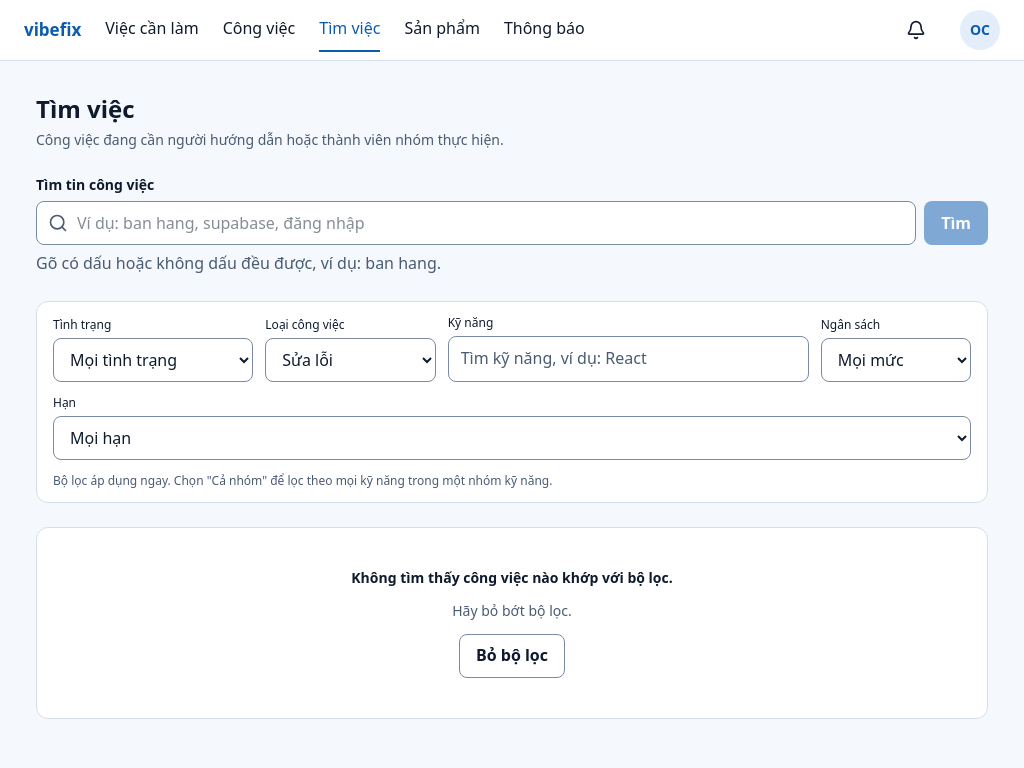
Test: MEN-2, browsing Job Posts (FR-12) › says there is nothing yet, and offers to clear filters that match nothing
Check: the text "Không tìm thấy công việc nào khớp với bộ lọc." is shown, box [351,568,673,588]
Click the button "Bỏ bộ lọc" at (512, 656), box [459,634,565,678]
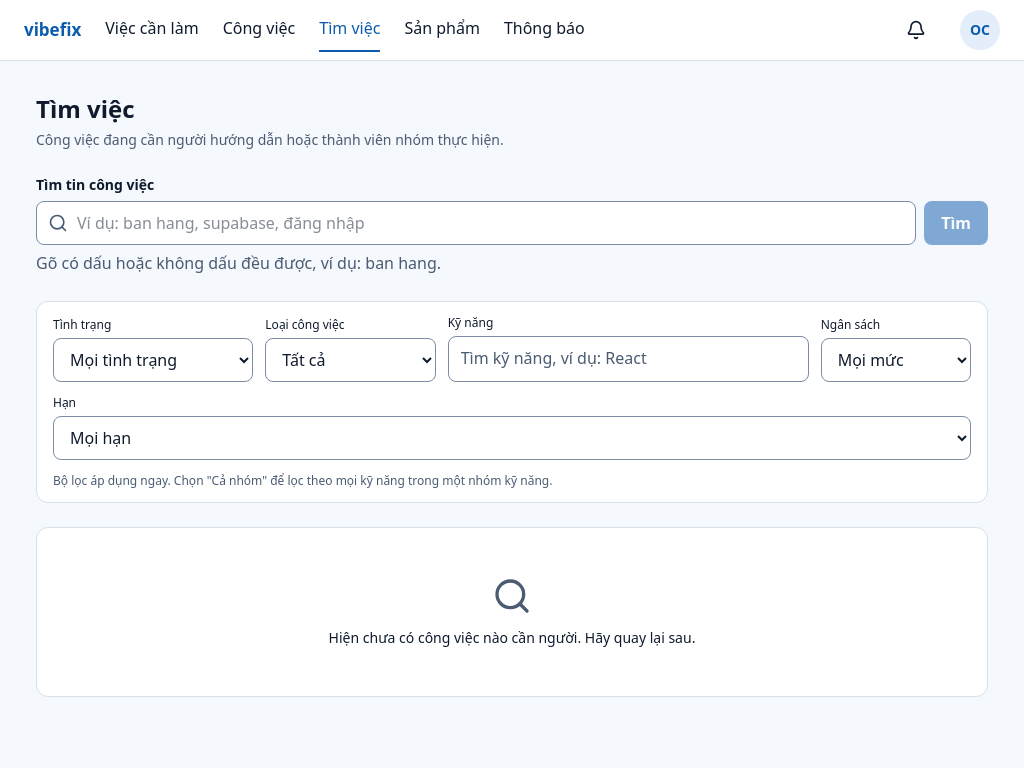
Check: the text "Hiện chưa có công việc nào cần người. Hãy quay lại sau." is shown, box [329,628,695,648]
Check: the button "Bỏ bộ lọc" is gone
